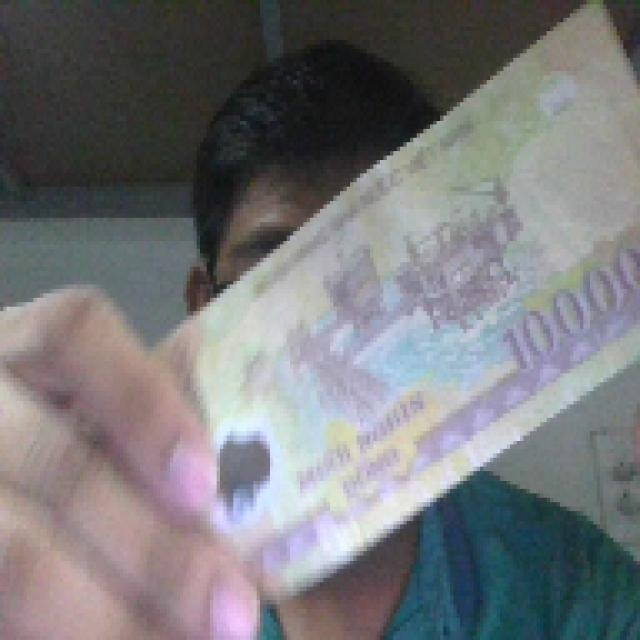10 000 VND: (183, 0, 636, 604)
